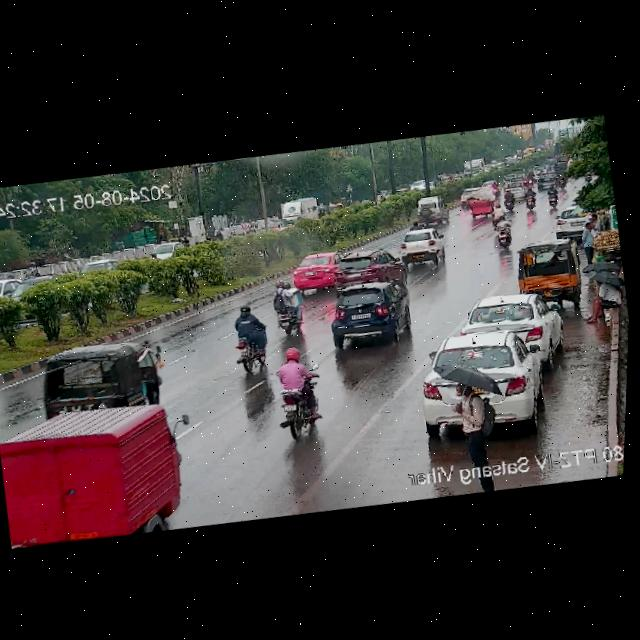bus: (523, 145, 537, 157)
car: (0, 391, 205, 556), (409, 319, 560, 443), (30, 334, 170, 425), (459, 286, 565, 359), (325, 275, 416, 351), (508, 235, 582, 301), (332, 244, 404, 292), (292, 247, 341, 290), (393, 226, 446, 264), (552, 201, 600, 241), (409, 196, 448, 229), (78, 257, 121, 284), (146, 237, 184, 266), (467, 187, 497, 219), (0, 274, 22, 309), (536, 169, 560, 191), (502, 165, 527, 184), (458, 187, 481, 207), (505, 181, 527, 201), (329, 201, 344, 212), (443, 172, 455, 184)
motorcycle: (268, 340, 328, 439), (227, 305, 270, 373), (266, 275, 306, 338), (490, 214, 517, 250), (519, 188, 543, 212), (541, 186, 561, 210), (503, 189, 515, 212), (557, 168, 569, 190), (494, 204, 505, 221), (525, 171, 536, 187), (492, 180, 501, 198), (409, 219, 421, 231), (246, 219, 256, 233), (436, 176, 444, 186), (214, 231, 223, 239), (183, 236, 190, 245), (151, 252, 158, 259)
person: (442, 375, 500, 463), (578, 281, 624, 324), (575, 221, 604, 263), (228, 222, 237, 236), (239, 220, 247, 234)
truck: (274, 193, 322, 233), (461, 156, 487, 179)
